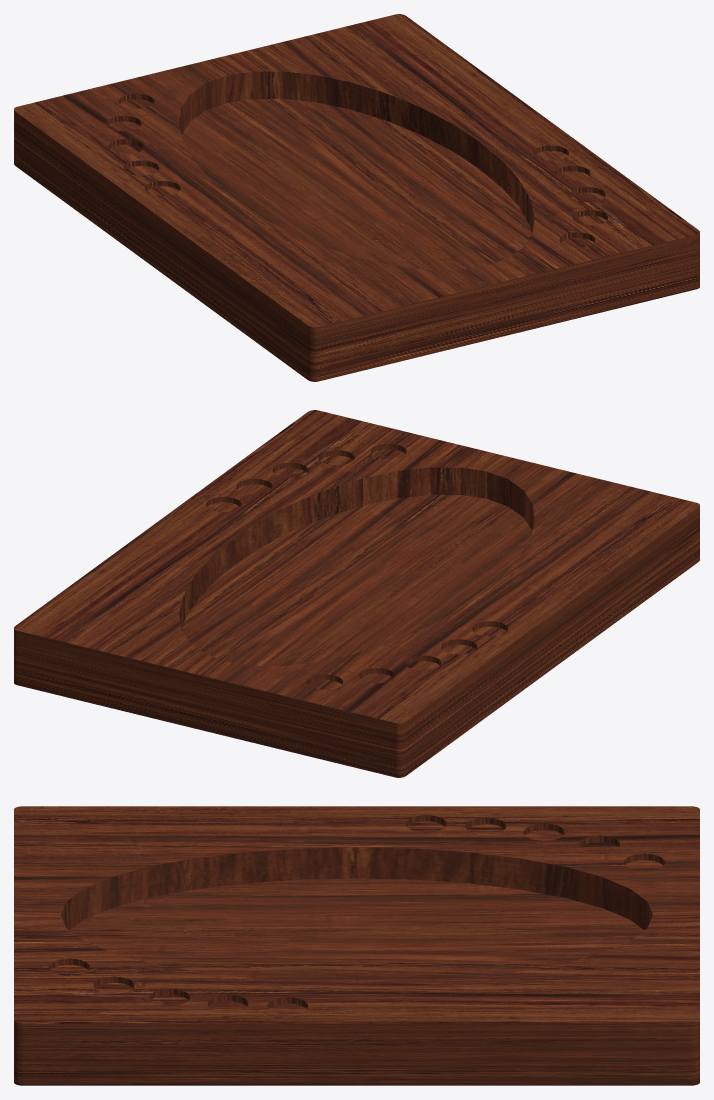
Rendered from board.glb.
3 views of the same model, one above another, from view 1: azimuth 30°, elevation 25°; view 2: azimuth 150°, elevation 25°; view 3: azimuth 270°, elevation 25° (orthographic). The views are drawn at different scales.
Parts seen in each view (by area): view 1: Cube; view 2: Cube; view 3: Cube.
Boxes of the visible parts, x1,y1,x2,y2 form: Cube: [14, 14, 699, 381]; Cube: [14, 410, 699, 777]; Cube: [14, 806, 699, 1085].
Bounding box in the file's own units: 15 × 2 × 20.
1 material, 1 textured.
